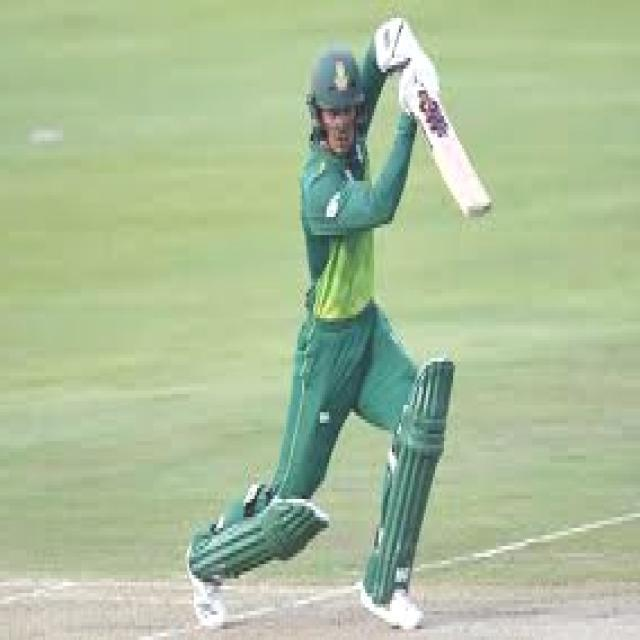bat: (415, 88, 491, 219)
toe: (467, 203, 491, 214)
